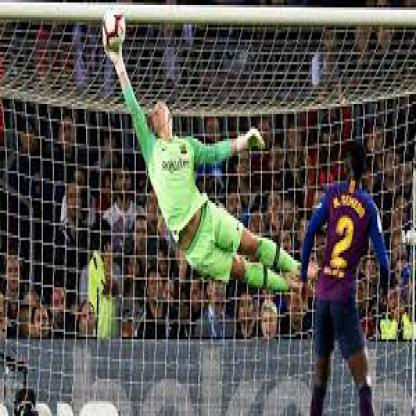goal: (87, 9, 263, 311)
